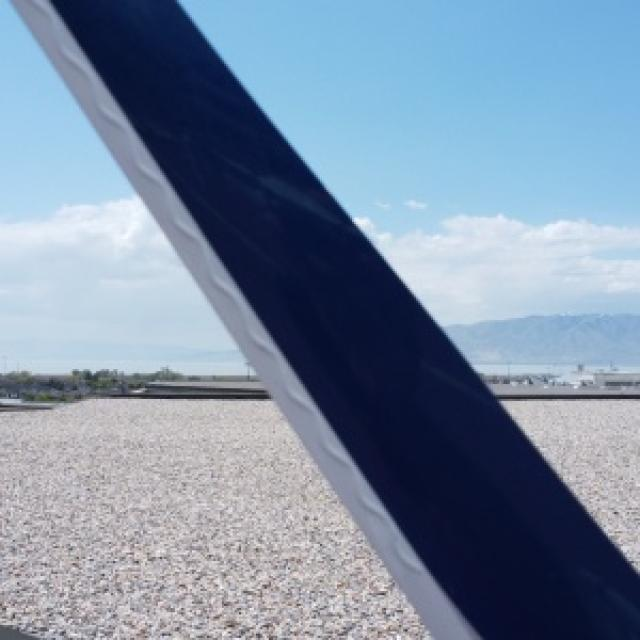healthy: (11, 0, 638, 638)
